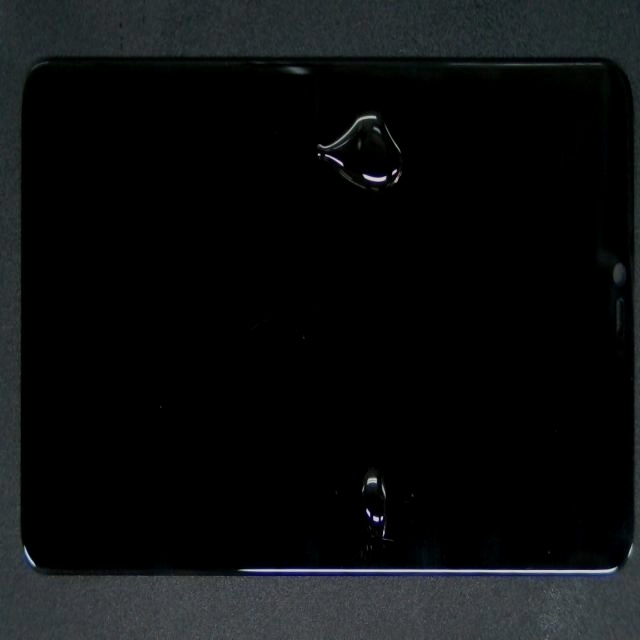oil: (205, 256, 575, 640), (221, 86, 591, 195)
